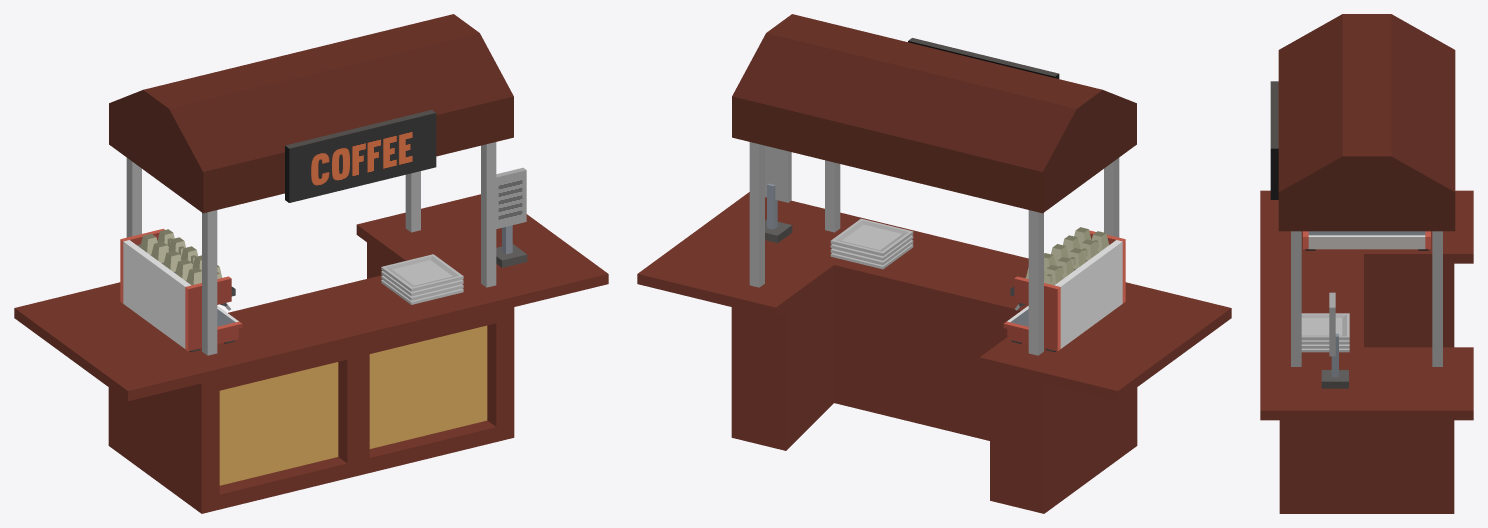
The model's file is CoffeeKiosk.glb.
3 views of the same model, side by side, from view 1: azimuth 30°, elevation 25°; view 2: azimuth 150°, elevation 25°; view 3: azimuth 270°, elevation 25° (orthographic). The views are drawn at different scales.
Visible parts, largest first — view 1: SI_Prop_Coffee_Kiosk; view 2: SI_Prop_Coffee_Kiosk; view 3: SI_Prop_Coffee_Kiosk.
Part boxes in pixels (left/top/right/bottom): SI_Prop_Coffee_Kiosk: left=14, top=14, right=608, bottom=513; SI_Prop_Coffee_Kiosk: left=637, top=14, right=1231, bottom=513; SI_Prop_Coffee_Kiosk: left=1260, top=14, right=1473, bottom=513.
Bounding box in the file's own units: 0.0531 × 0.0402 × 0.0217.
Materials: 1 (1 with a texture image).
